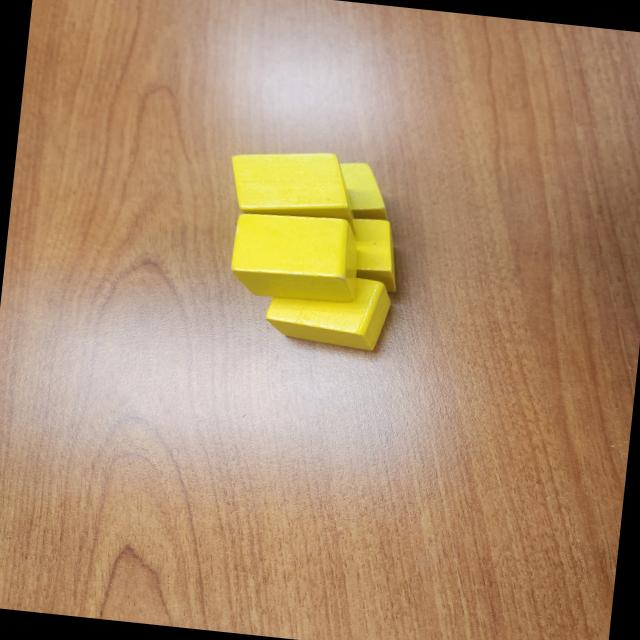yellow: (227, 209, 363, 307), (261, 268, 394, 352), (224, 144, 360, 225), (340, 214, 404, 294), (330, 160, 396, 220)
